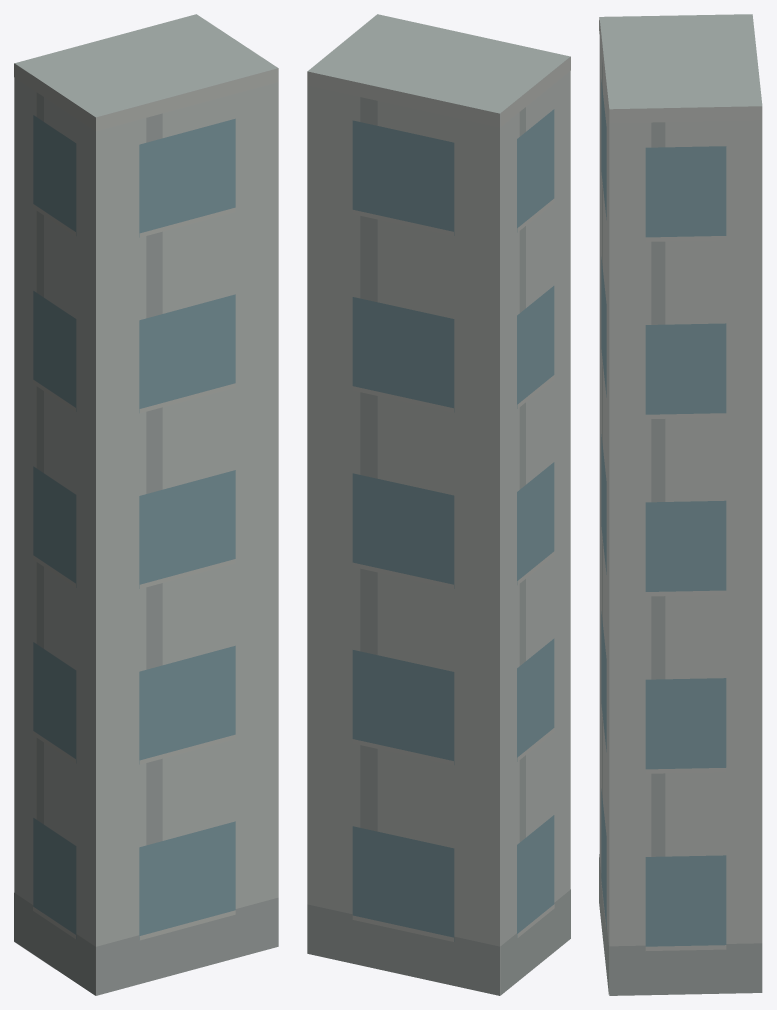
File: survey-upis-32813686.glb
3 renders of one model, left to right at view 1: azimuth 30°, elevation 25°; view 2: azimuth 150°, elevation 25°; view 3: azimuth 270°, elevation 25°, orthographic.
Visible parts, largest first — view 1: survey-upis-32813686.tmp; view 2: survey-upis-32813686.tmp; view 3: survey-upis-32813686.tmp.
Boxes of the visible parts, bbox=[...] form: survey-upis-32813686.tmp: bbox=[14, 14, 278, 995]; survey-upis-32813686.tmp: bbox=[307, 14, 570, 995]; survey-upis-32813686.tmp: bbox=[599, 14, 762, 995].
Bounding box in the file's own units: 3.52 × 15.25 × 2.55.
